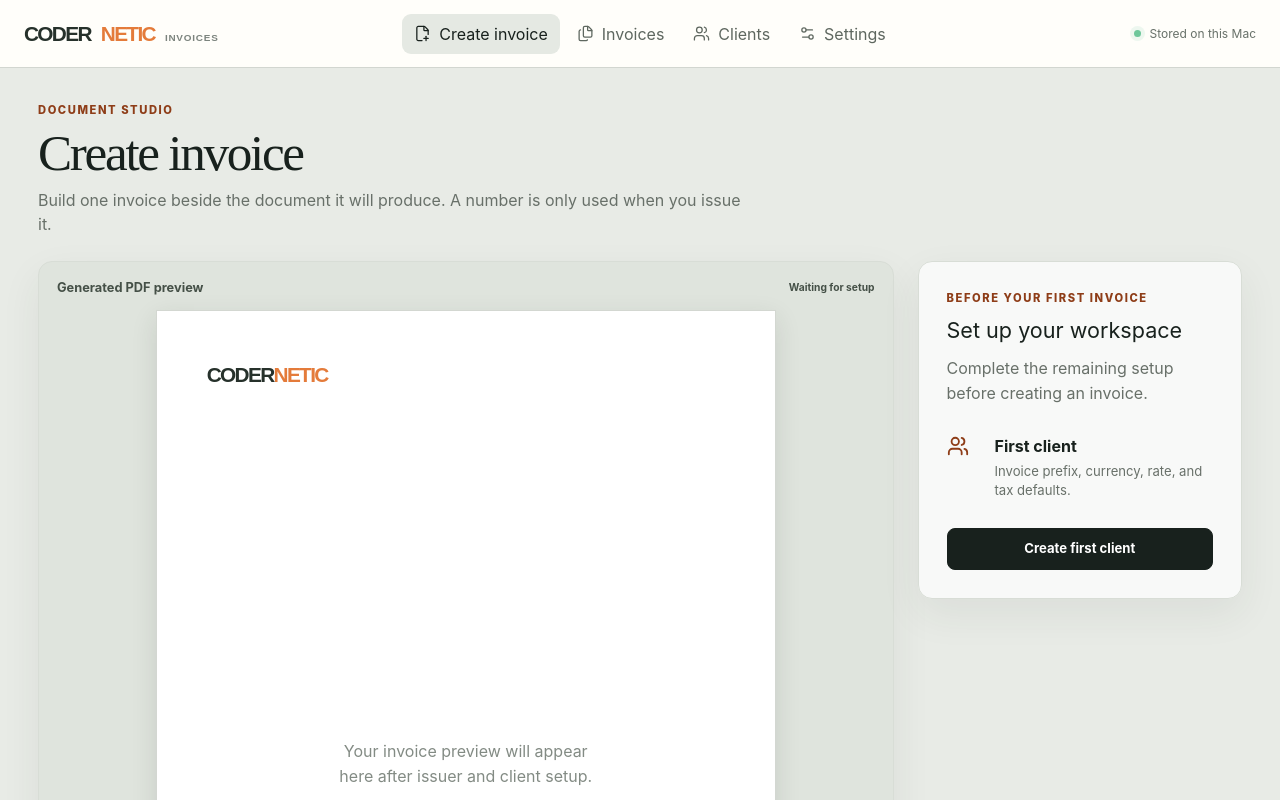
Test: empty workspace › does not duplicate a successful in-flight autosave when the owner saves now
Click the button "Settings".
click(842, 34)  # box [787,14,898,54]
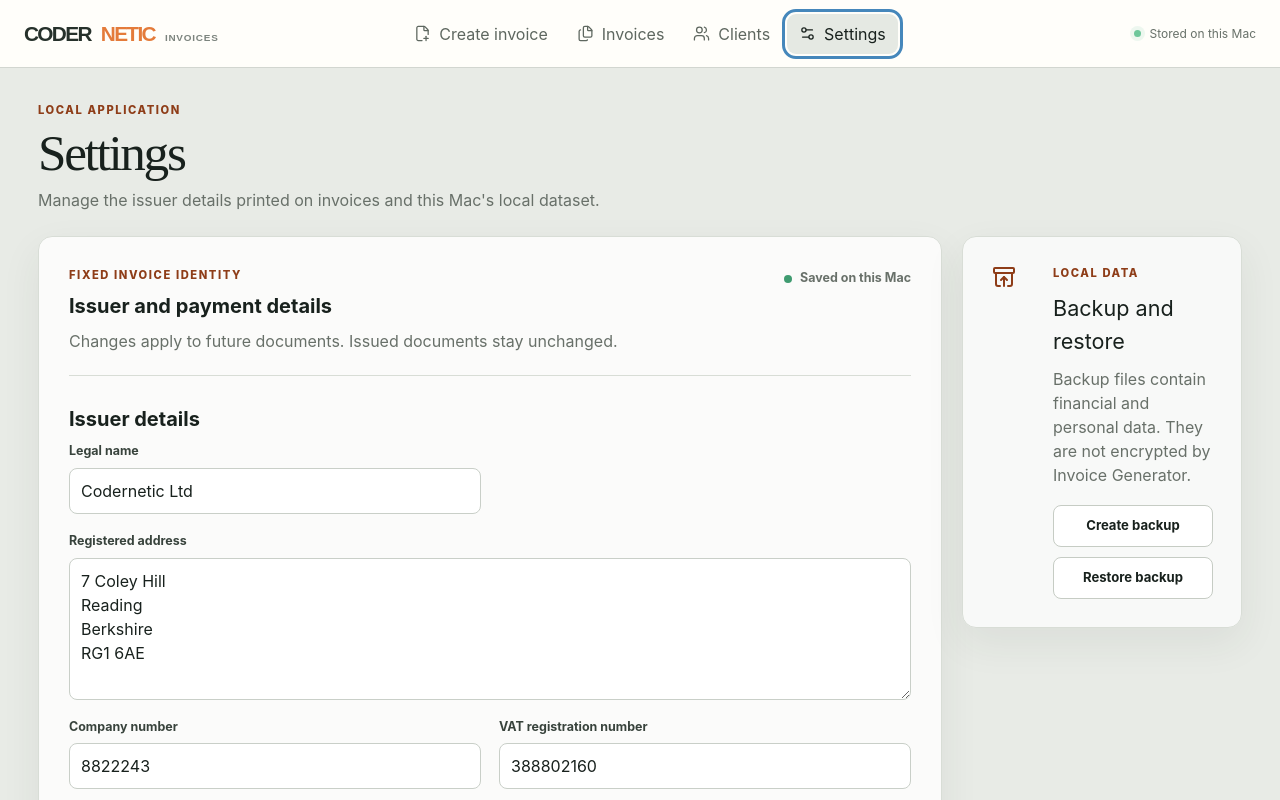
Replace the text in the field labelled "Legal name" with "Codernetic Studio Ltd" at {"x": 275, "y": 491}, box [69,468,481,514]
(page scrolled)
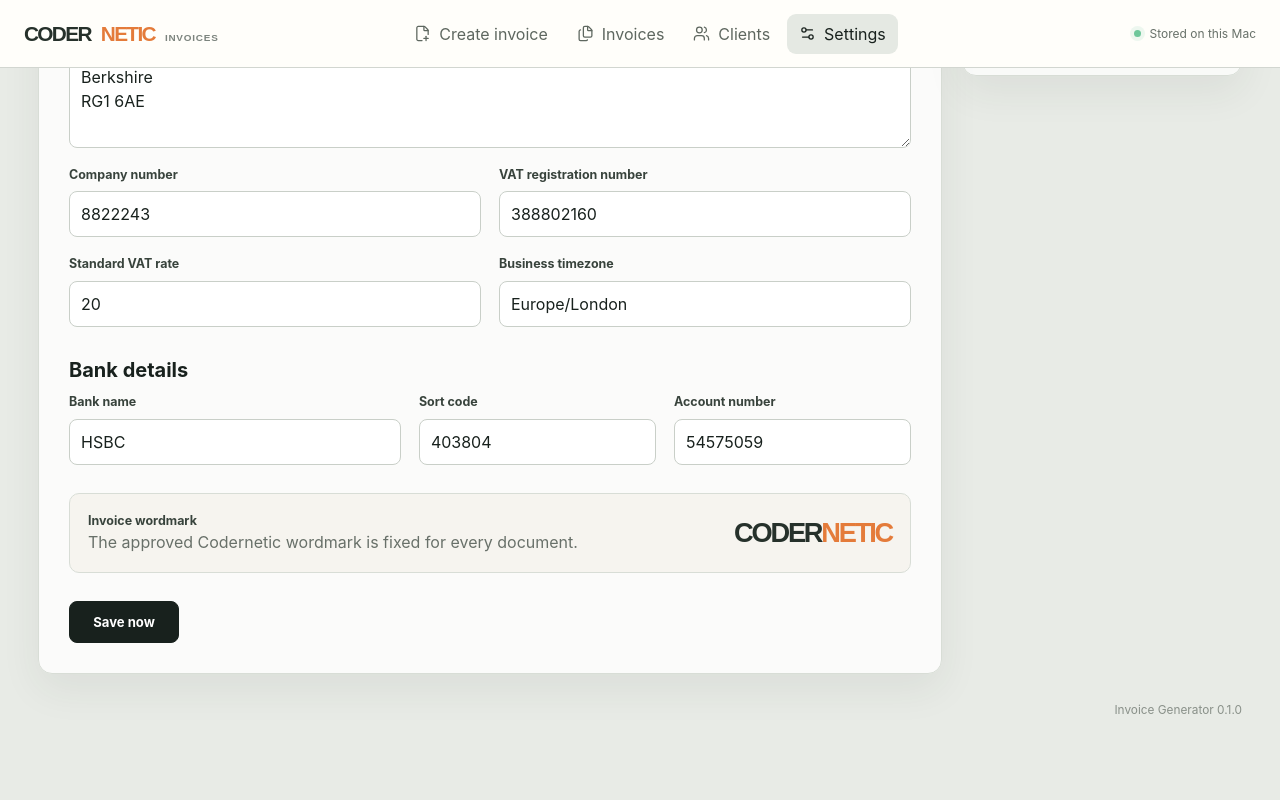
Click the button "Save now".
click(124, 622)  # box [69,602,179,644]
(page scrolled)
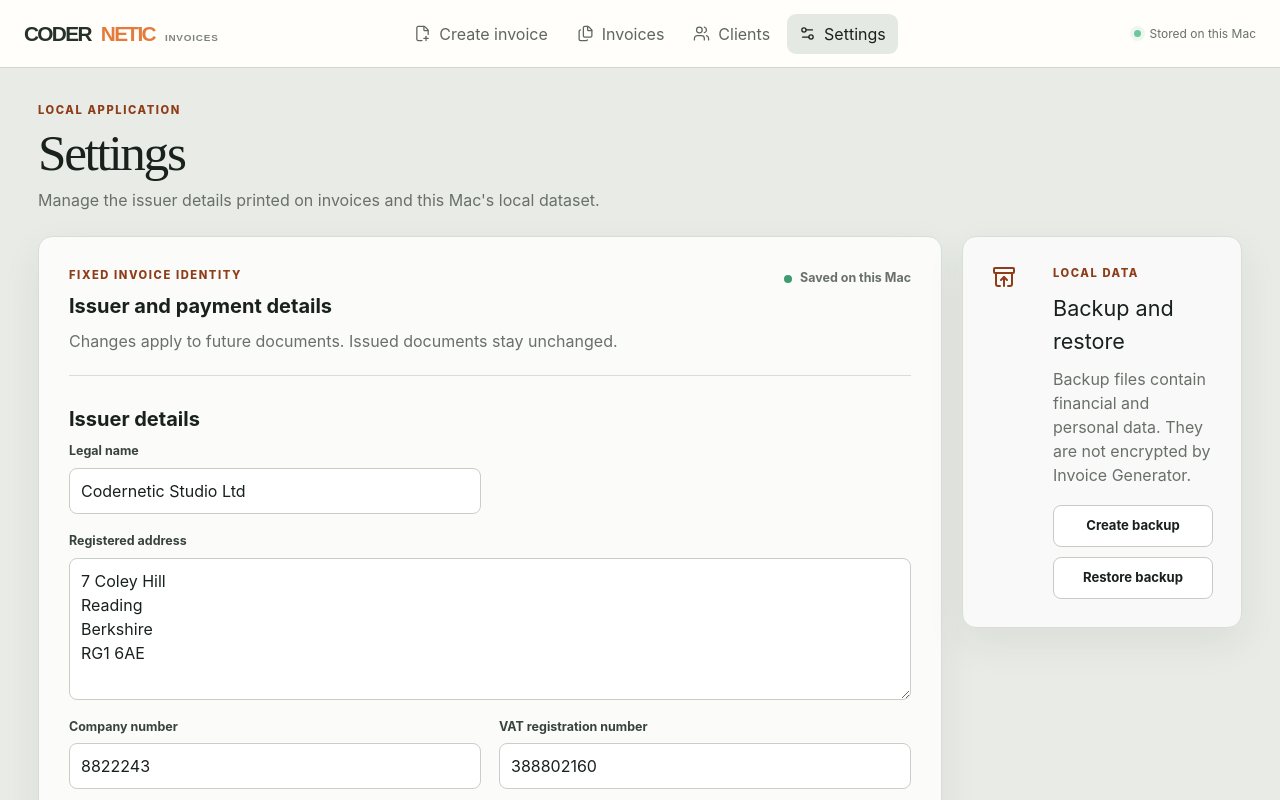
Expected: the text "Saved on this Mac" is shown, [784,267,911,288]
